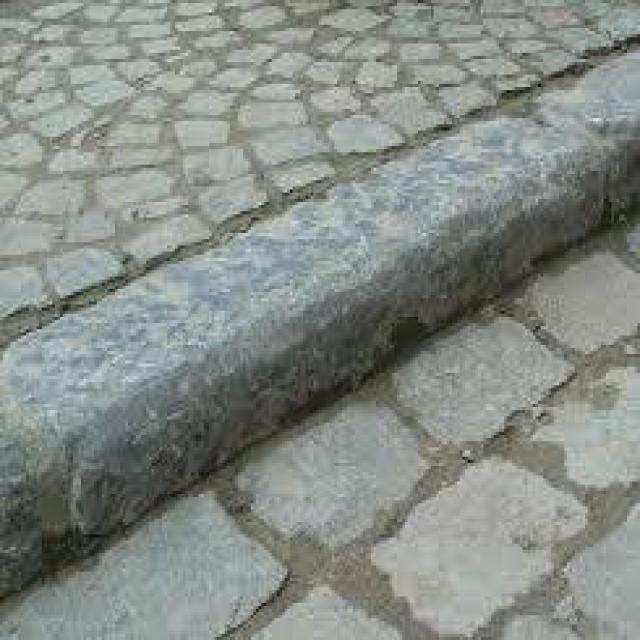curb: (0, 96, 617, 576)
